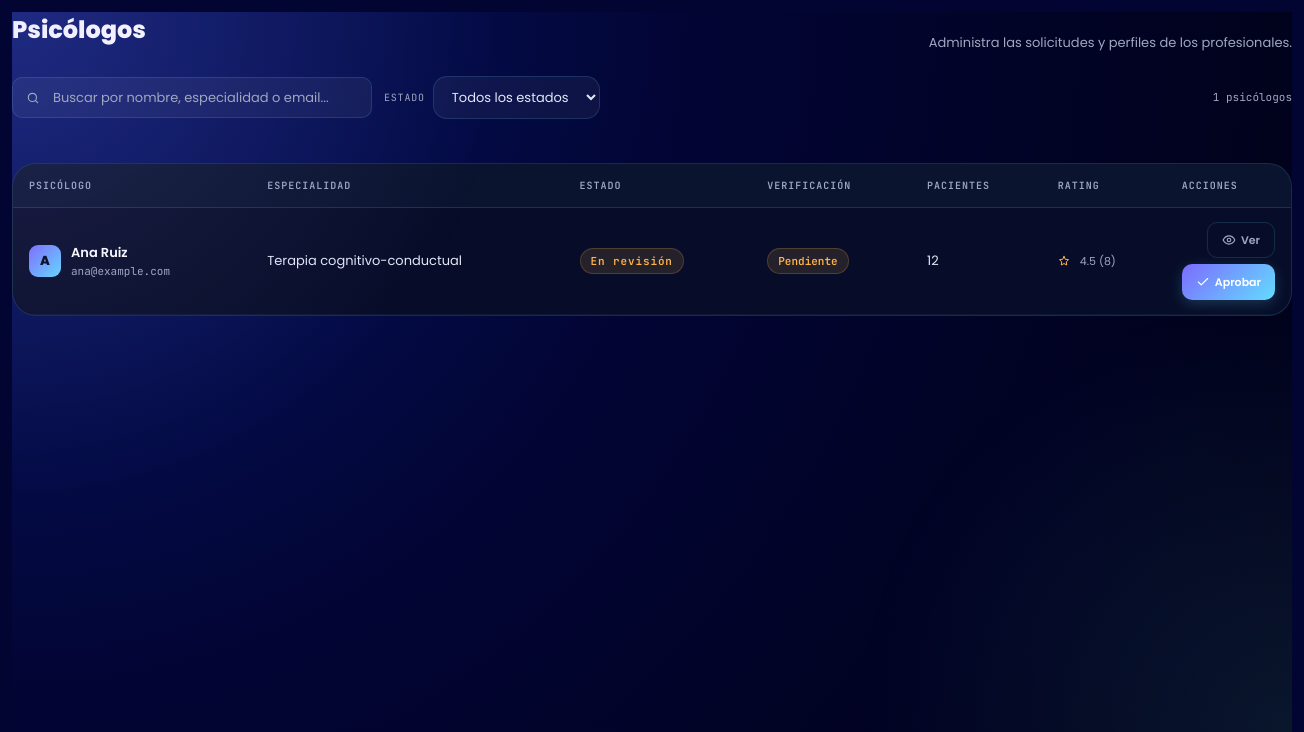
Test: AdminPsychologistsPage › keeps the row and shows a toast when approval fails
The image size is (1304, 732).
Click the button "Aprobar" at (1228, 282), box [1182,264,1275,300]
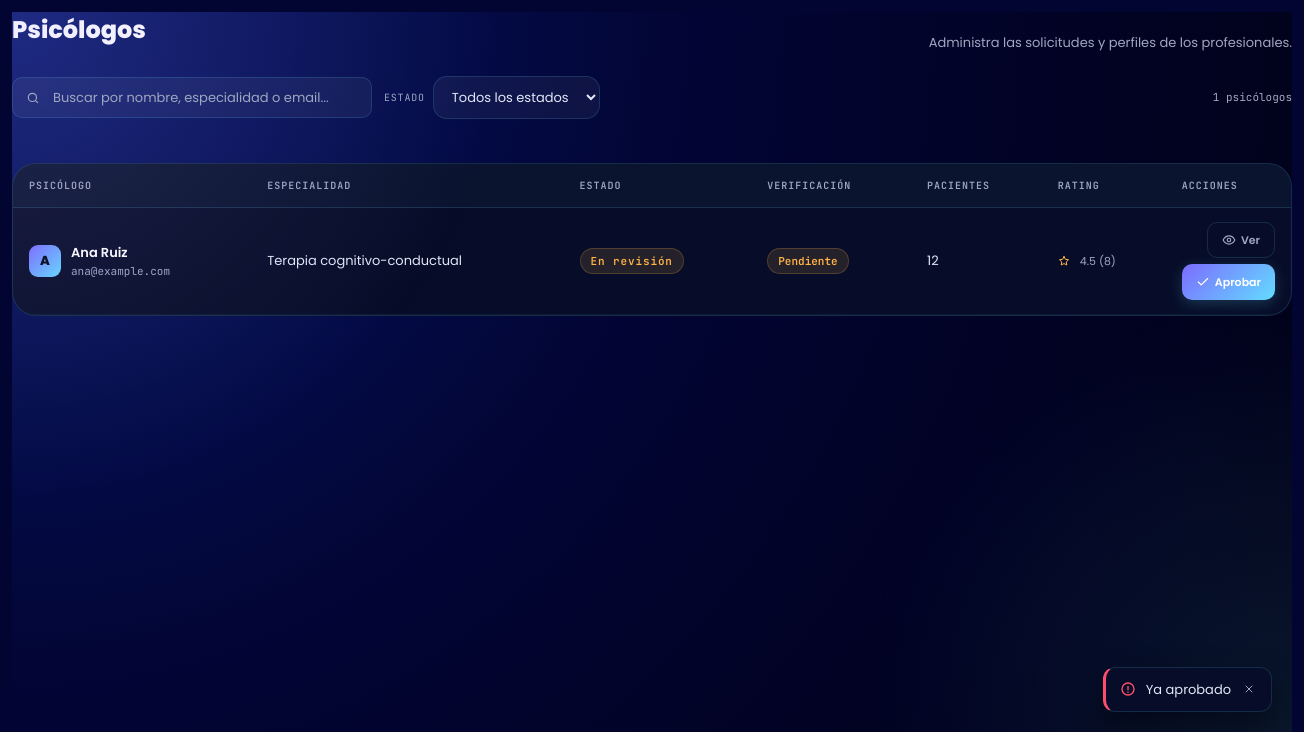
Check: the text "Pendiente" is shown, box [767,248,849,274]
Check: the text "Ya aprobado" is shown, box [1146,680,1231,699]
